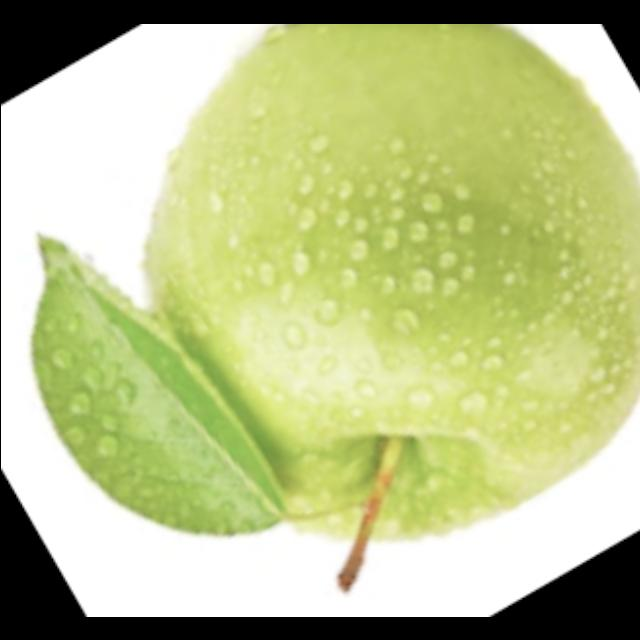Apel Segar: (4, 24, 640, 617)
